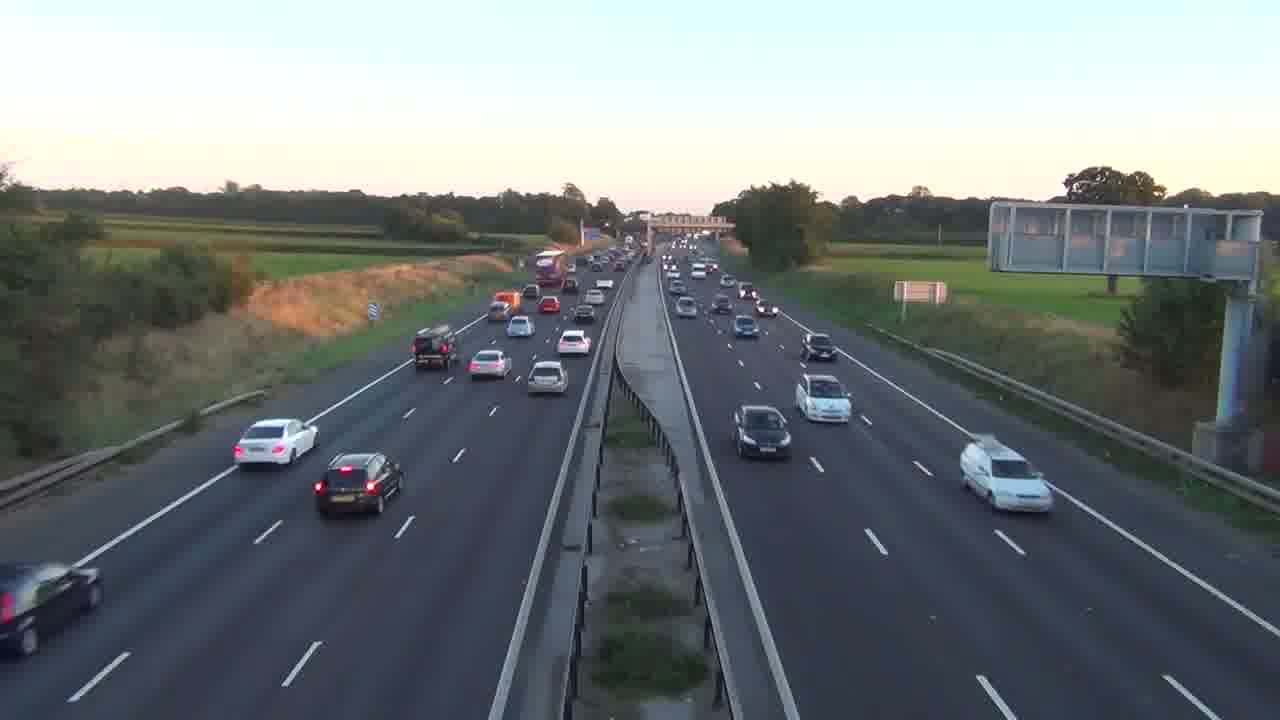car: (960, 437, 1055, 515), (312, 451, 404, 518), (231, 416, 319, 469), (795, 373, 853, 424), (466, 348, 512, 381), (526, 359, 568, 395), (800, 333, 838, 363)
truck: (0, 560, 104, 658)
